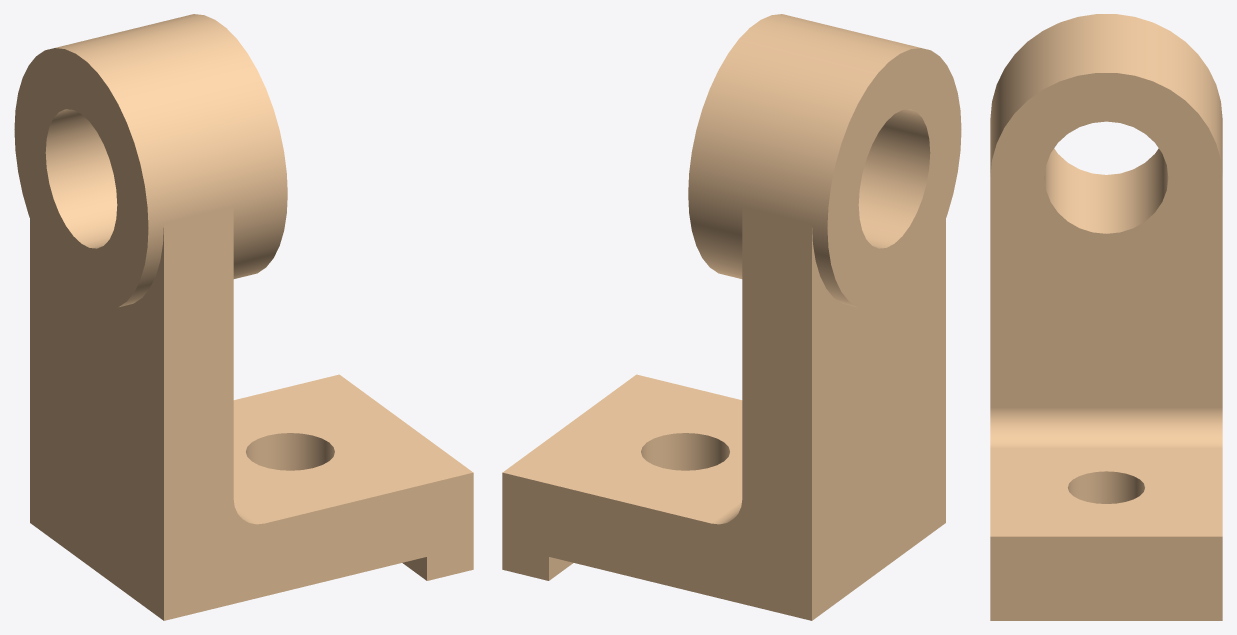
File: modelo_33.glb
3 renders of one model, left to right at view 1: azimuth 30°, elevation 25°; view 2: azimuth 150°, elevation 25°; view 3: azimuth 270°, elevation 25°, orthographic. The views are drawn at different scales.
Visible parts, largest first — view 1: Modelo 33; view 2: Modelo 33; view 3: Modelo 33.
Boxes of the visible parts, <box> form: Modelo 33: <box>14,14,473,620</box>; Modelo 33: <box>502,14,961,620</box>; Modelo 33: <box>990,14,1222,620</box>.
Size of the model in its own units: 0.042 by 0.0669 by 0.03.
